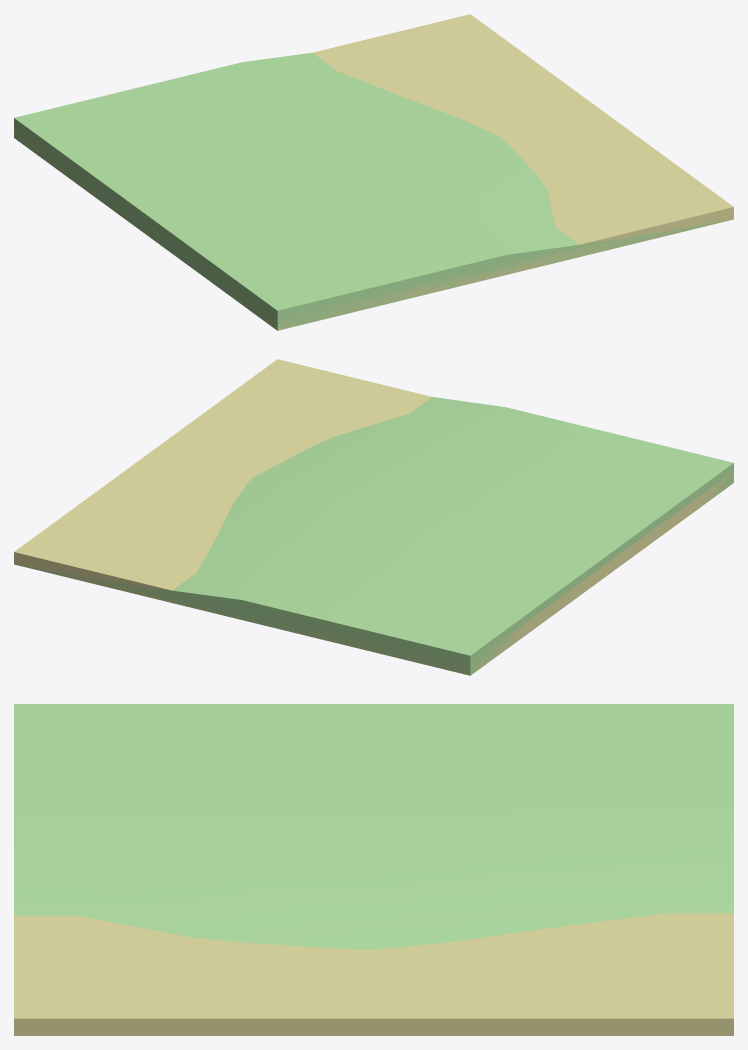
The model's file is Ground.fbx.
3 renders of one model, top to bottom at view 1: azimuth 30°, elevation 25°; view 2: azimuth 150°, elevation 25°; view 3: azimuth 270°, elevation 25°, orthographic. The views are drawn at different scales.
Parts seen in each view (by area): view 1: pCube10; view 2: pCube10; view 3: pCube10.
Part boxes in pixels (x1,y1,x2,y2): pCube10: [14, 14, 733, 330]; pCube10: [14, 359, 733, 675]; pCube10: [14, 704, 733, 1035].
Size of the model in its own units: 24 by 1.01 by 24.
